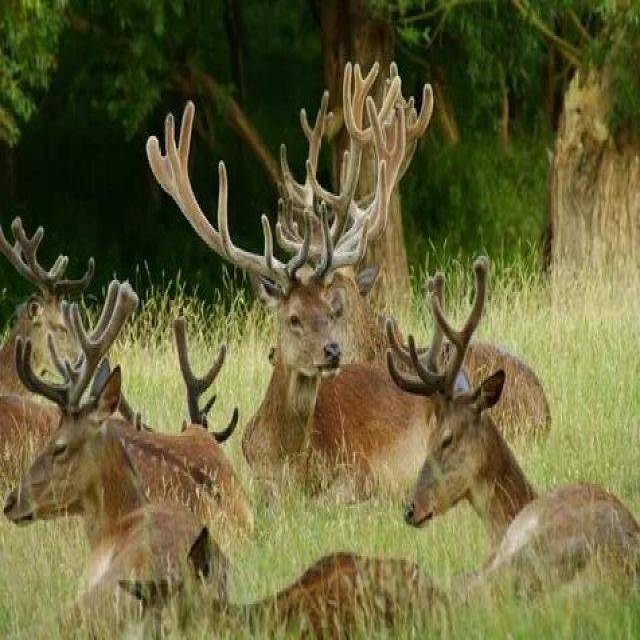deer: (157, 122, 488, 545), (408, 360, 640, 640), (28, 326, 244, 607)
